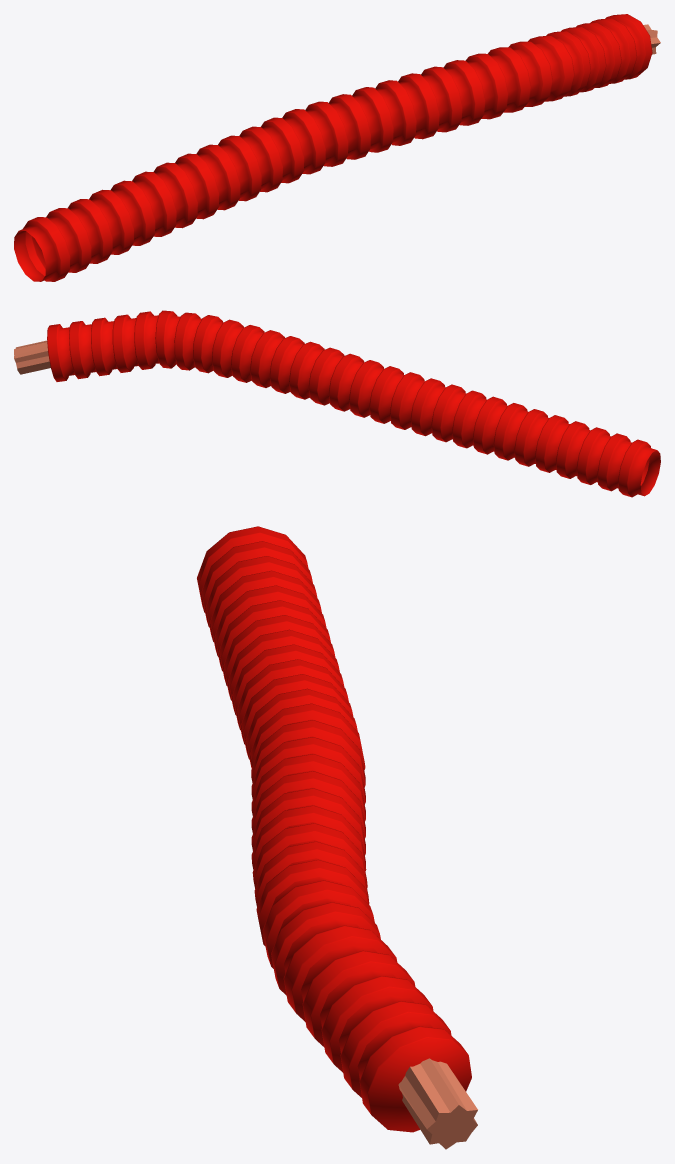
File: PositiveWire_01.fbx
3 renders of one model, top to bottom at view 1: azimuth 30°, elevation 25°; view 2: azimuth 150°, elevation 25°; view 3: azimuth 270°, elevation 25°, orthographic. The views are drawn at different scales.
Visible parts, largest first — view 1: Positive; view 2: Positive; view 3: Positive.
Boxes of the visible parts, left/top/right/bottom form: Positive: left=14, top=14, right=660, bottom=281; Positive: left=14, top=310, right=660, bottom=497; Positive: left=197, top=526, right=477, bottom=1149.
Size of the model in its own units: 340 by 47.84 by 70.12.
